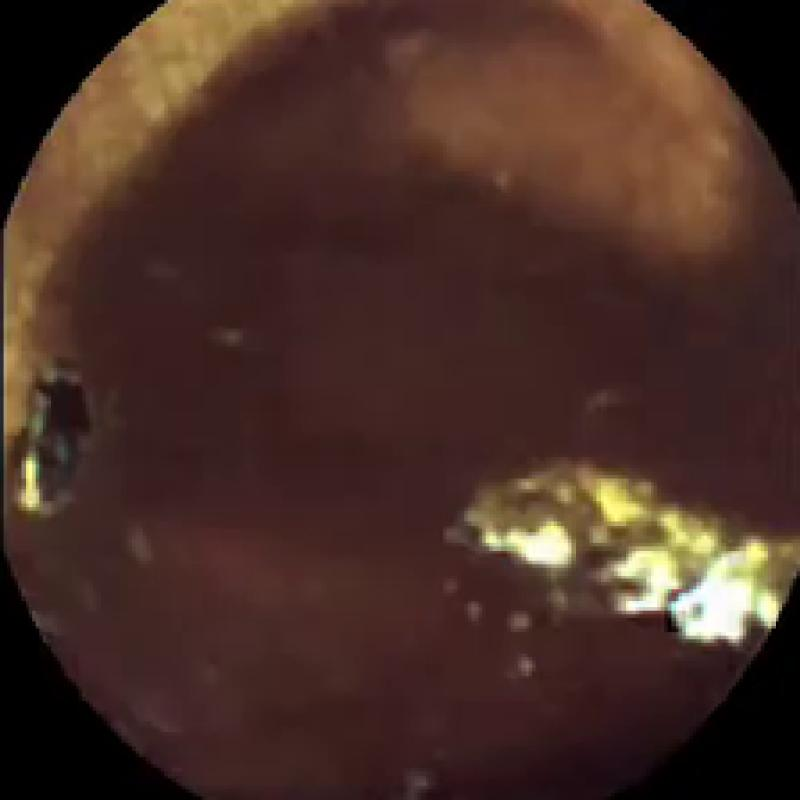bleeding: (7, 357, 89, 504)
